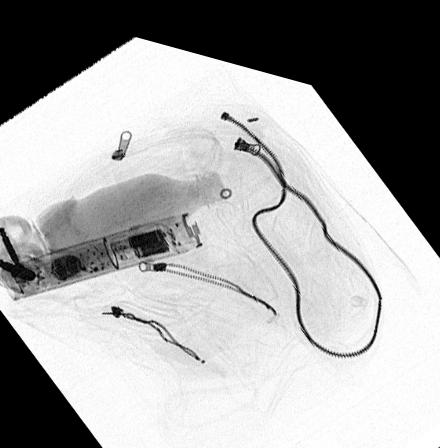Baton: (0, 199, 202, 301)
